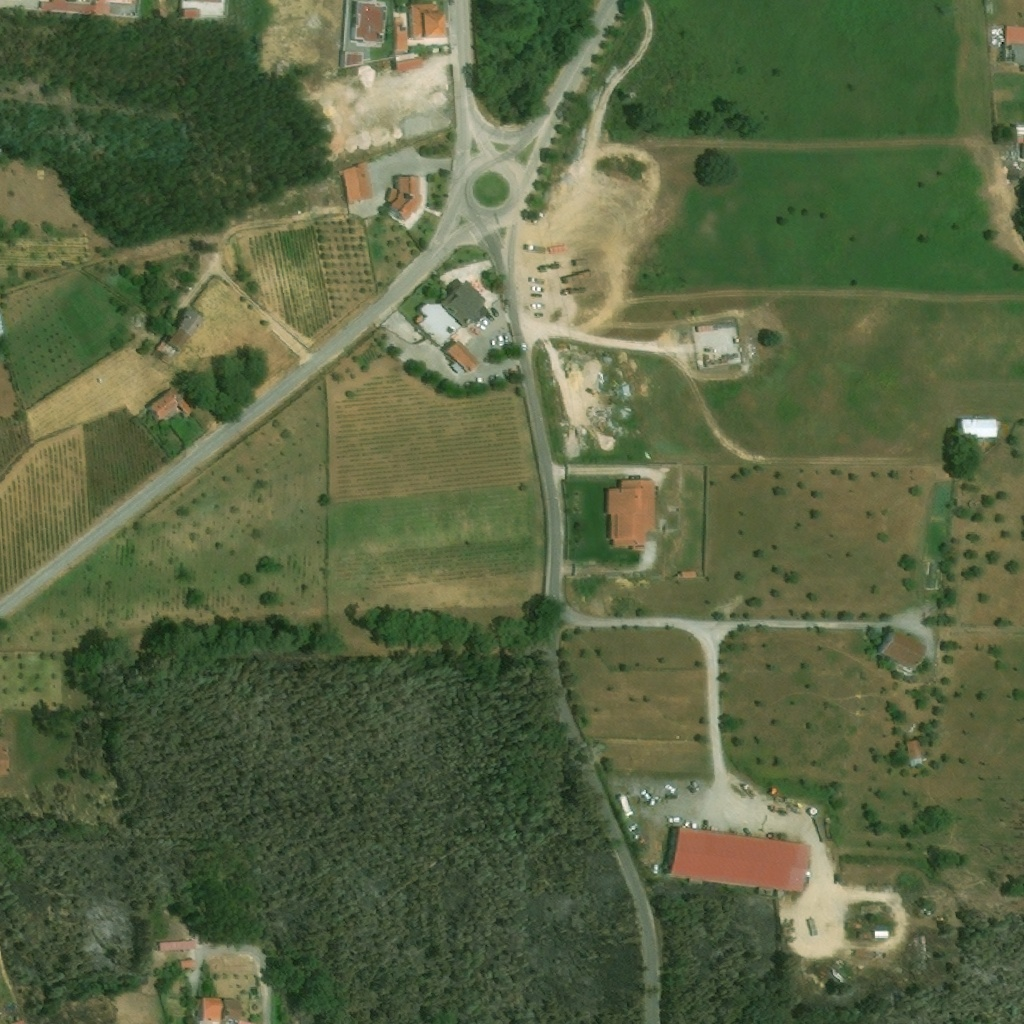0 no-damage: (663, 824, 812, 891), (605, 479, 658, 546), (440, 278, 490, 327), (413, 302, 462, 349), (877, 630, 929, 672), (386, 175, 425, 223), (146, 385, 195, 423), (167, 306, 207, 351), (351, 1, 389, 47), (200, 997, 256, 1023), (444, 339, 483, 374), (409, 4, 449, 38), (341, 161, 372, 204), (956, 417, 998, 438), (394, 10, 410, 53), (396, 52, 424, 72), (905, 740, 924, 766), (161, 940, 197, 951), (342, 51, 365, 68), (180, 960, 196, 969)
4 un-classified: (40, 0, 136, 16), (1002, 26, 1023, 65), (182, 0, 224, 18), (0, 740, 12, 777), (1016, 126, 1023, 160), (0, 312, 5, 336)
